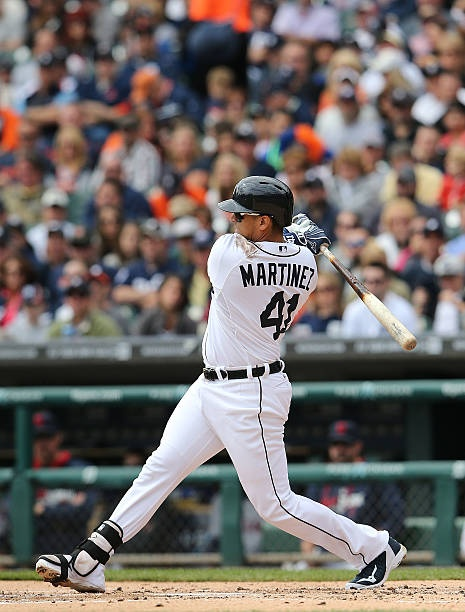bita: (316, 235, 418, 350)
